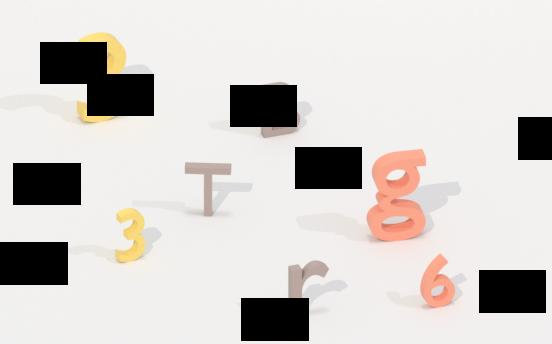3: (75, 29, 130, 132), (113, 206, 148, 267)
6: (420, 251, 456, 312)
R: (282, 257, 333, 325)
b: (259, 80, 303, 144)
g: (366, 147, 429, 245)
t-hoa: (181, 156, 237, 223)
